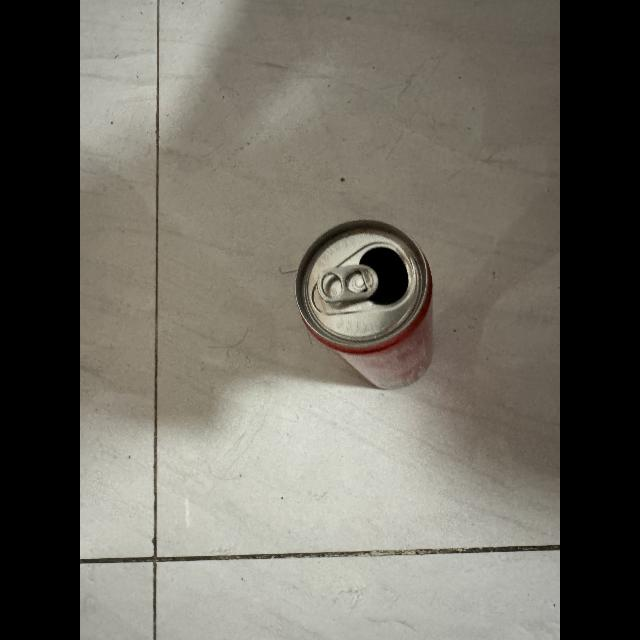Cola: (282, 207, 458, 401)
